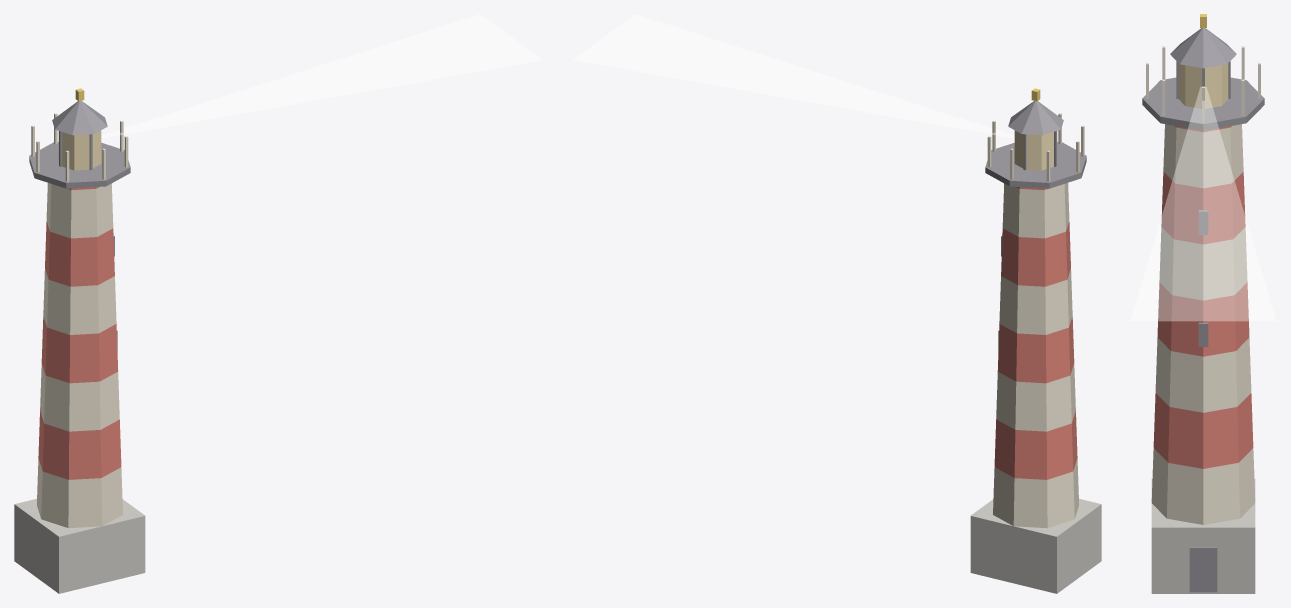
File: mercusuar.glb
3 renders of one model, left to right at view 1: azimuth 30°, elevation 25°; view 2: azimuth 150°, elevation 25°; view 3: azimuth 270°, elevation 25°, orthographic. The views are drawn at different scales.
Visible parts, largest first — view 1: Sinar, Mercusuar_Annex, Mercusuar_Pita, Mercusuar_Pita.001, Mercusuar_Pita.002, Mercusuar_Pita.003, Mercusuar_Pita.004, Mercusuar_Pita.005, Mercusuar_Pita.006, Mercusuar_Galeri, Mercusuar_Lentera, Mercusuar_Atap; view 2: Sinar, Mercusuar_Annex, Mercusuar_Pita, Mercusuar_Pita.001, Mercusuar_Pita.002, Mercusuar_Pita.003, Mercusuar_Pita.004, Mercusuar_Pita.005, Mercusuar_Pita.006, Mercusuar_Galeri, Mercusuar_Lentera, Mercusuar_Atap; view 3: Sinar, Mercusuar_Annex, Mercusuar_Pita, Mercusuar_Pita.001, Mercusuar_Pita.002, Mercusuar_Pita.003, Mercusuar_Pita.004, Mercusuar_Pita.005, Mercusuar_Pita.006, Mercusuar_Galeri, Mercusuar_Lentera, Mercusuar_Atap (+3 smaller).
Boxes of the visible parts, bbox=[...] form: Sinar: bbox=[101, 14, 542, 138]; Mercusuar_Annex: bbox=[14, 498, 145, 593]; Mercusuar_Pita: bbox=[37, 458, 122, 528]; Mercusuar_Pita.001: bbox=[38, 411, 121, 479]; Mercusuar_Pita.002: bbox=[40, 363, 119, 431]; Mercusuar_Pita.003: bbox=[41, 316, 118, 383]; Mercusuar_Pita.004: bbox=[43, 269, 116, 334]; Mercusuar_Pita.005: bbox=[45, 222, 114, 286]; Mercusuar_Pita.006: bbox=[46, 183, 113, 238]; Mercusuar_Galeri: bbox=[29, 142, 130, 188]; Mercusuar_Lentera: bbox=[58, 130, 101, 170]; Mercusuar_Atap: bbox=[52, 101, 107, 135]; Sinar: bbox=[573, 14, 1014, 138]; Mercusuar_Annex: bbox=[970, 498, 1101, 593]; Mercusuar_Pita: bbox=[993, 458, 1078, 528]; Mercusuar_Pita.001: bbox=[994, 411, 1077, 479]; Mercusuar_Pita.002: bbox=[996, 363, 1075, 431]; Mercusuar_Pita.003: bbox=[997, 316, 1074, 383]; Mercusuar_Pita.004: bbox=[999, 269, 1072, 334]; Mercusuar_Pita.005: bbox=[1001, 222, 1070, 286]; Mercusuar_Pita.006: bbox=[1002, 183, 1069, 238]; Mercusuar_Galeri: bbox=[985, 142, 1086, 188]; Mercusuar_Lentera: bbox=[1014, 130, 1057, 170]; Mercusuar_Atap: bbox=[1008, 101, 1063, 135]; Sinar: bbox=[1130, 87, 1276, 320]; Mercusuar_Annex: bbox=[1151, 478, 1255, 593]; Mercusuar_Pita: bbox=[1151, 448, 1255, 524]; Mercusuar_Pita.001: bbox=[1153, 393, 1253, 468]; Mercusuar_Pita.002: bbox=[1155, 337, 1251, 412]; Mercusuar_Pita.003: bbox=[1157, 282, 1249, 356]; Mercusuar_Pita.004: bbox=[1159, 227, 1247, 300]; Mercusuar_Pita.005: bbox=[1161, 172, 1245, 244]; Mercusuar_Pita.006: bbox=[1163, 124, 1243, 188]; Mercusuar_Galeri: bbox=[1142, 77, 1264, 130]; Mercusuar_Lentera: bbox=[1178, 63, 1228, 108]; Mercusuar_Atap: bbox=[1170, 28, 1236, 68].
Bounding box in the file's own units: 10.5 × 10.02 × 2.4.
